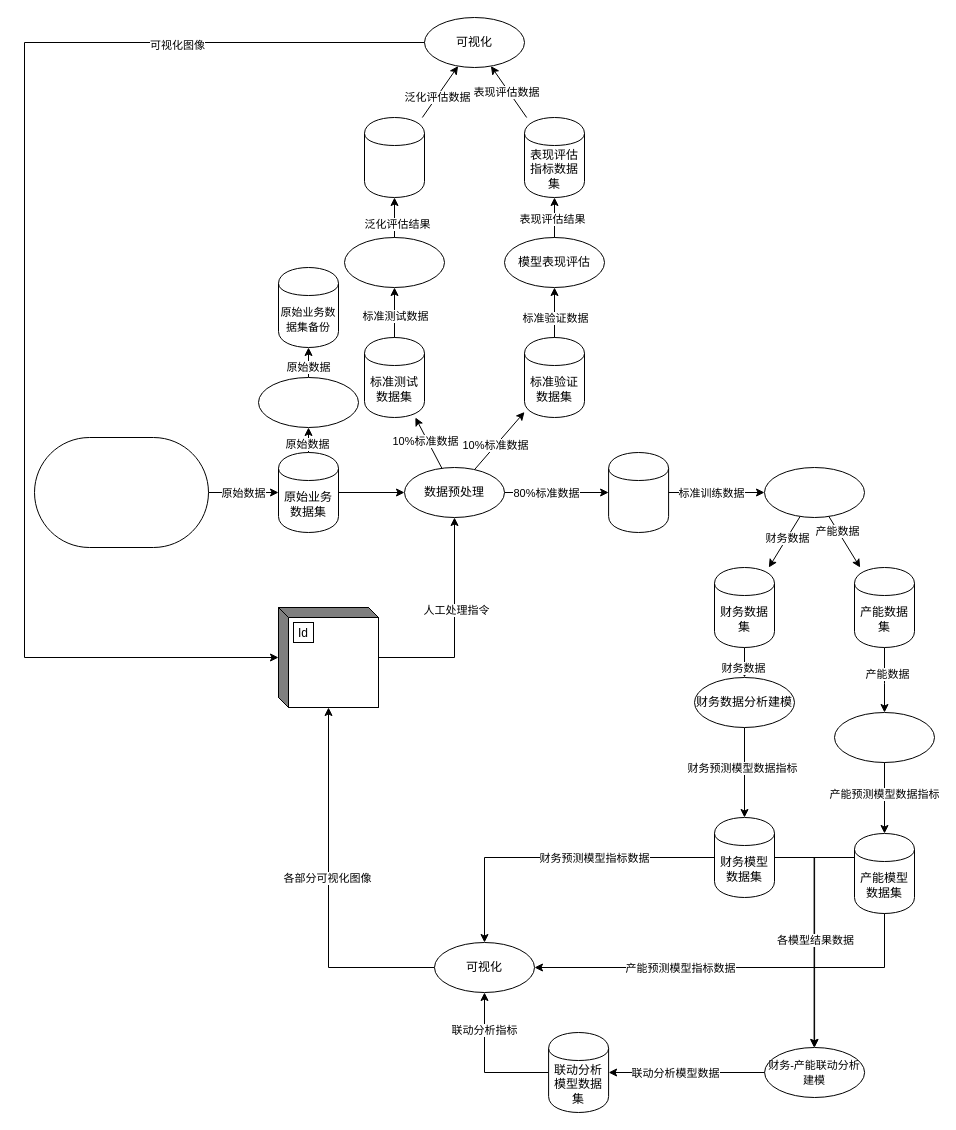
Some shapes in this 956 by 1130 pixel diagram are drawn without their labels. Each missing label, with the centre of its shape:
"业务数据集分类处理" belongs at [814,492].
"产能数据分析建摸" belongs at [884,737].
"备份" belongs at [308,402].
"数据源" belongs at [121,492].
"标准训练数据集" belongs at [638,492].
"模型泛化能力评估" belongs at [394,262].
"泛化评估结果指标数据集" belongs at [394,157].
"研究员" belongs at [328,657].
